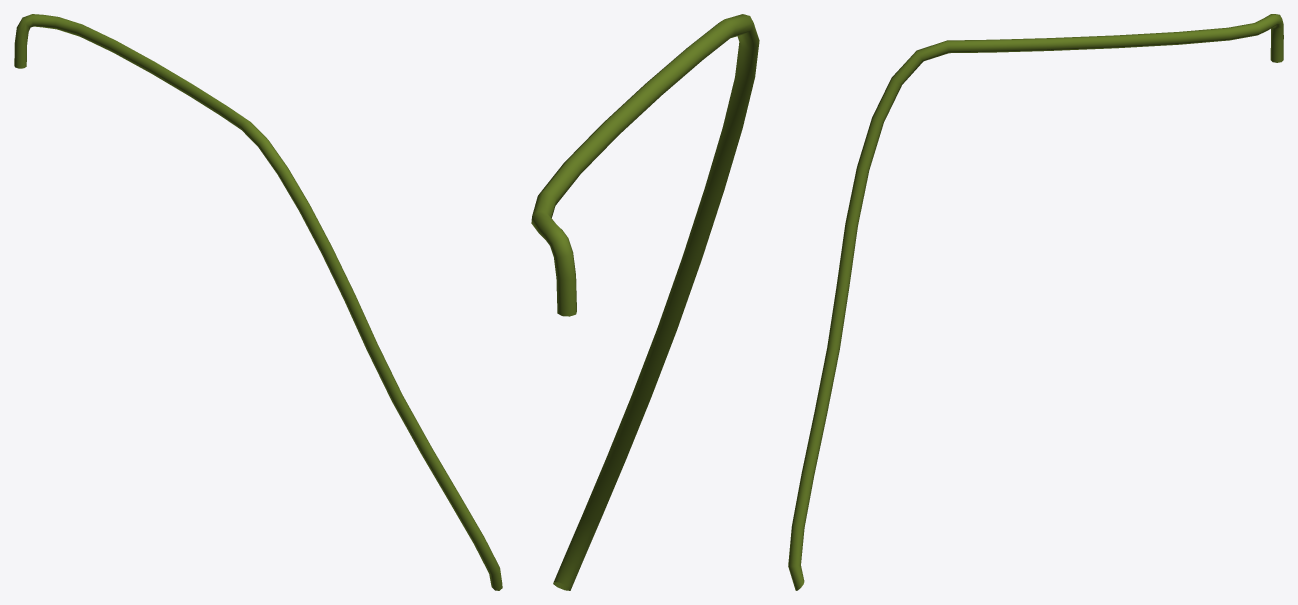
The model's file is provoda_PE.fbx.
3 views of the same model, side by side, from view 1: azimuth 30°, elevation 25°; view 2: azimuth 150°, elevation 25°; view 3: azimuth 270°, elevation 25° (orthographic). The views are drawn at different scales.
Visible parts, largest first — view 1: Obj_TT_tube.101; view 2: Obj_TT_tube.101; view 3: Obj_TT_tube.101.
Part boxes in pixels (x1,y1,x2,y2): Obj_TT_tube.101: [14, 14, 502, 590]; Obj_TT_tube.101: [531, 14, 759, 590]; Obj_TT_tube.101: [788, 14, 1283, 590].
Size of the model in its own units: 0.1192 by 0.2084 by 0.2023.
1 material, 1 textured.
